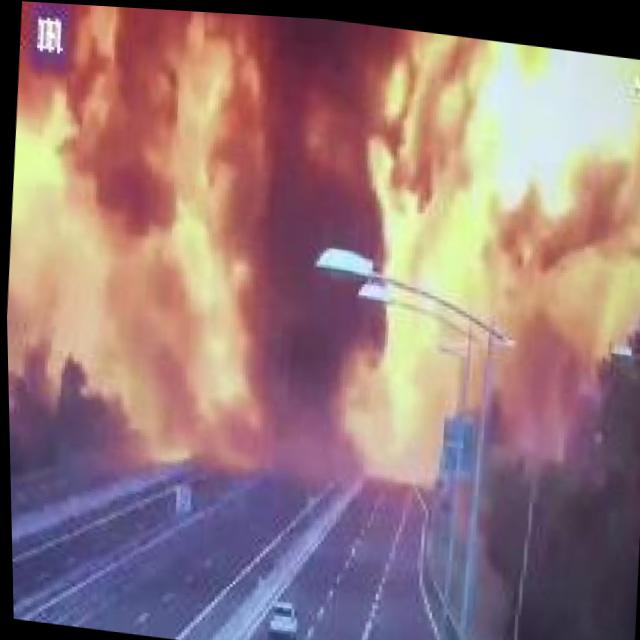fire: (316, 18, 640, 540), (0, 0, 317, 505)
